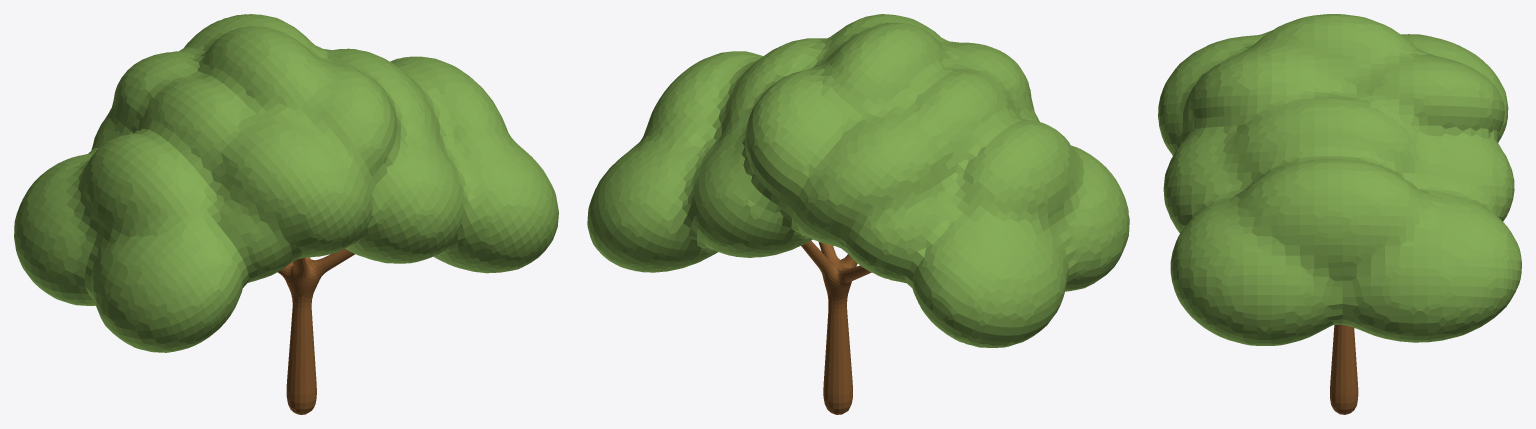
Rendered from Arbol_LowPoly.glb.
3 views of the same model, side by side, from view 1: azimuth 30°, elevation 25°; view 2: azimuth 150°, elevation 25°; view 3: azimuth 270°, elevation 25° (orthographic). The views are drawn at different scales.
Parts seen in each view (by area): view 1: Tronco.001; view 2: Tronco.001; view 3: Tronco.001.
Boxes of the visible parts, x1,y1,x2,y2 form: Tronco.001: (14,14,558,414); Tronco.001: (587,14,1129,414); Tronco.001: (1158,14,1521,414).
Bounding box in the file's own units: 21.71 × 18.29 × 15.99.
